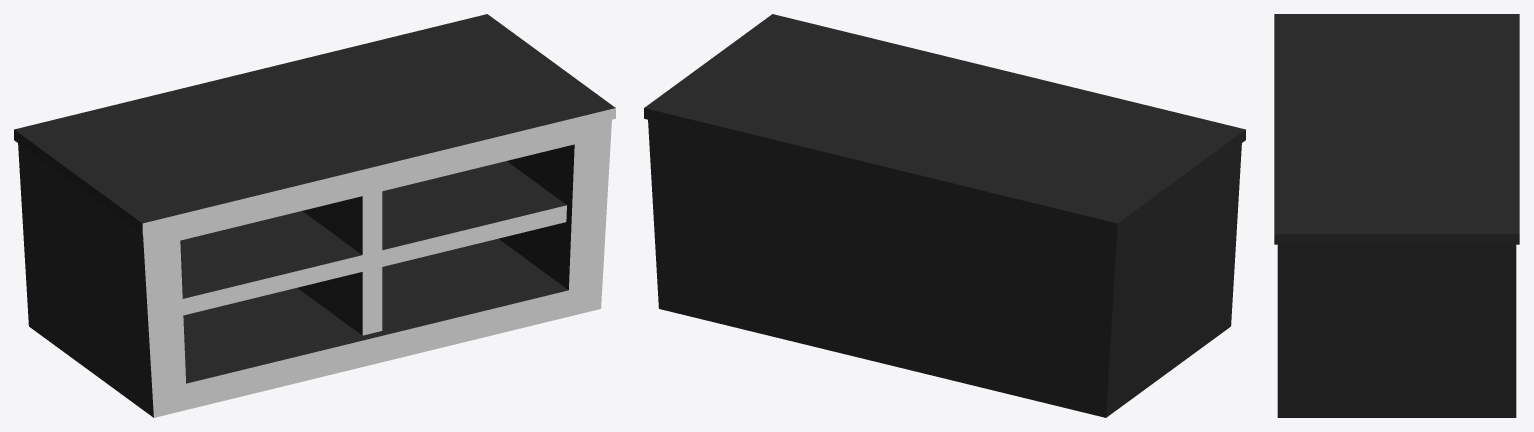
File: bedside table 3.fbx
3 views of the same model, side by side, from view 1: azimuth 30°, elevation 25°; view 2: azimuth 150°, elevation 25°; view 3: azimuth 270°, elevation 25° (orthographic). The views are drawn at different scales.
Parts seen in each view (by area): view 1: bedside table 3; view 2: bedside table 3; view 3: bedside table 3.
Boxes of the visible parts, x1,y1,x2,y2 form: bedside table 3: (14,14,615,417); bedside table 3: (644,14,1245,417); bedside table 3: (1274,14,1519,417).
Bounding box in the file's own units: 317 × 127 × 149.
